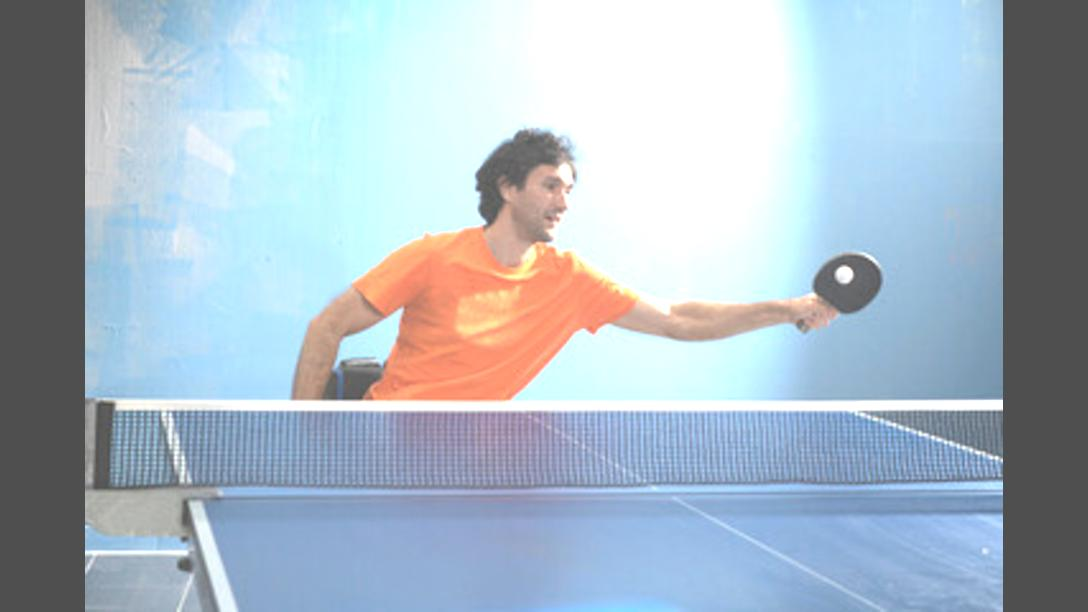Table-Tennis-Ball: (836, 265, 852, 283)
